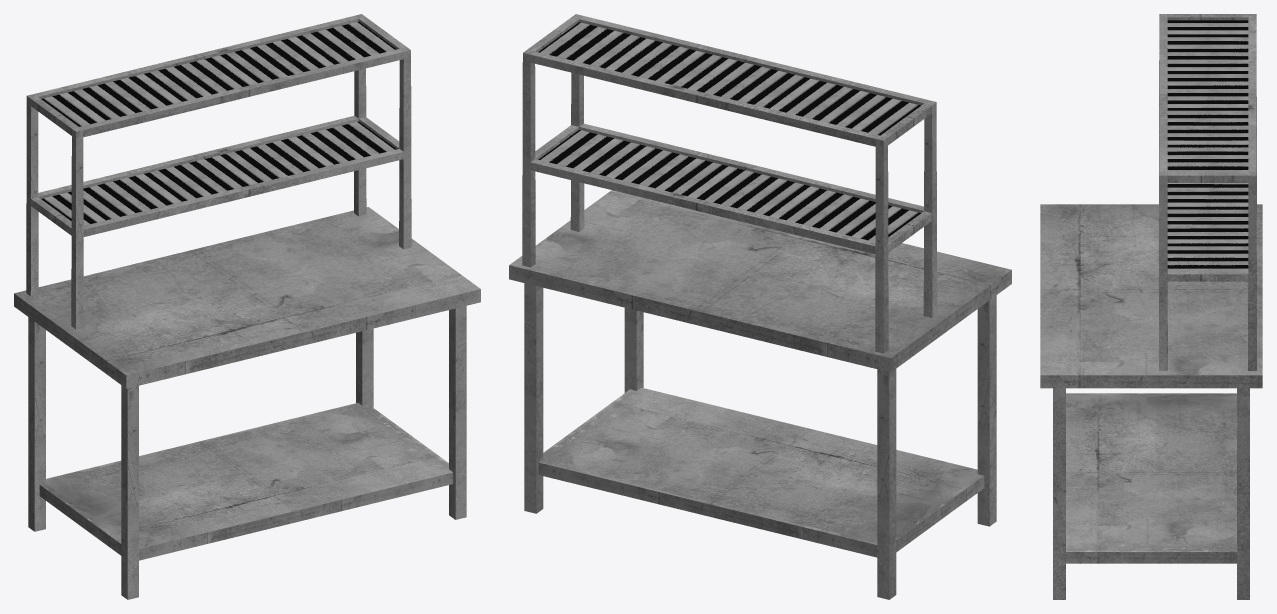
The model's file is Table_M_02.dae.
3 views of the same model, side by side, from view 1: azimuth 30°, elevation 25°; view 2: azimuth 150°, elevation 25°; view 3: azimuth 270°, elevation 25° (orthographic). The views are drawn at different scales.
Visible parts, largest first — view 1: Table_M_02; view 2: Table_M_02; view 3: Table_M_02.
Boxes of the visible parts, x1,y1,x2,y2 form: Table_M_02: (14, 14, 480, 599); Table_M_02: (509, 14, 1011, 599); Table_M_02: (1040, 14, 1262, 599).
Size of the model in its own units: 1.59 by 0.8729 by 1.84.
Materials: 2 (2 with a texture image).
